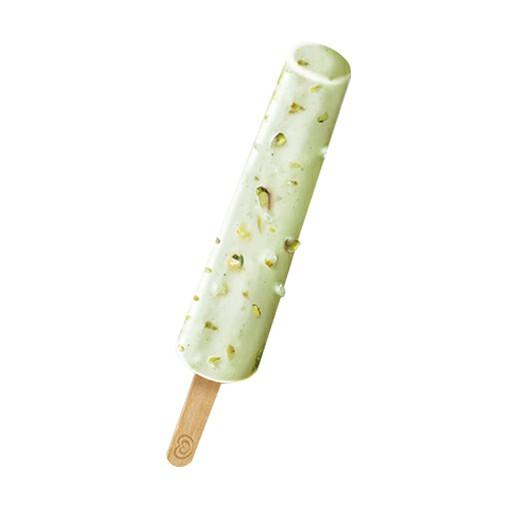Kulfi: (171, 47, 353, 383)
